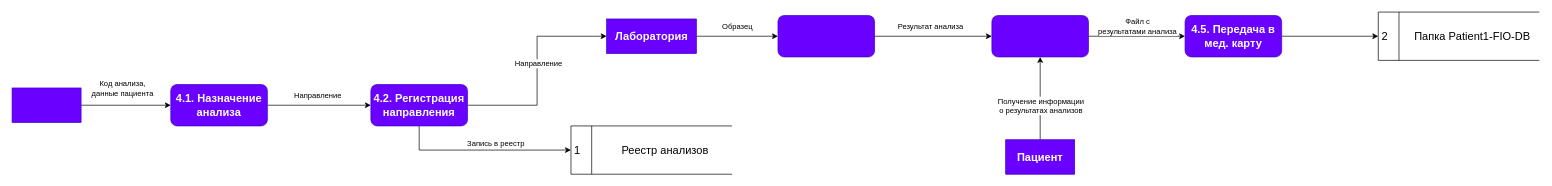
Some shapes in this 1552 by 186 pixel diagram are drawn without their labels. Each missing label, with the centre of its shape:
4.3. Выполнение анализа: the point at 826,36
4.4. Получение результата: the point at 1039,36
Врач: the point at 46,104
